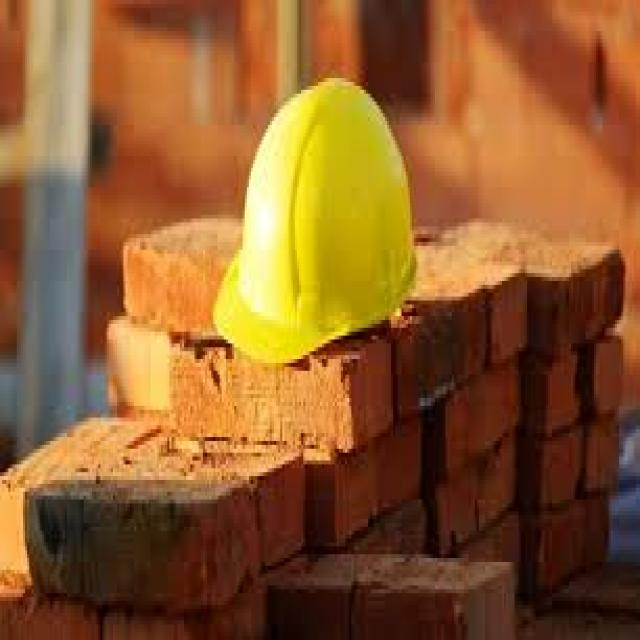Safety-Helmet: (211, 66, 427, 367)
